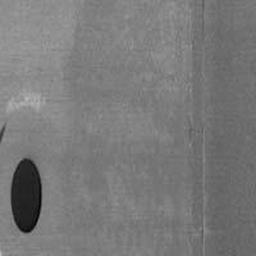Punching: (10, 157, 42, 233)
